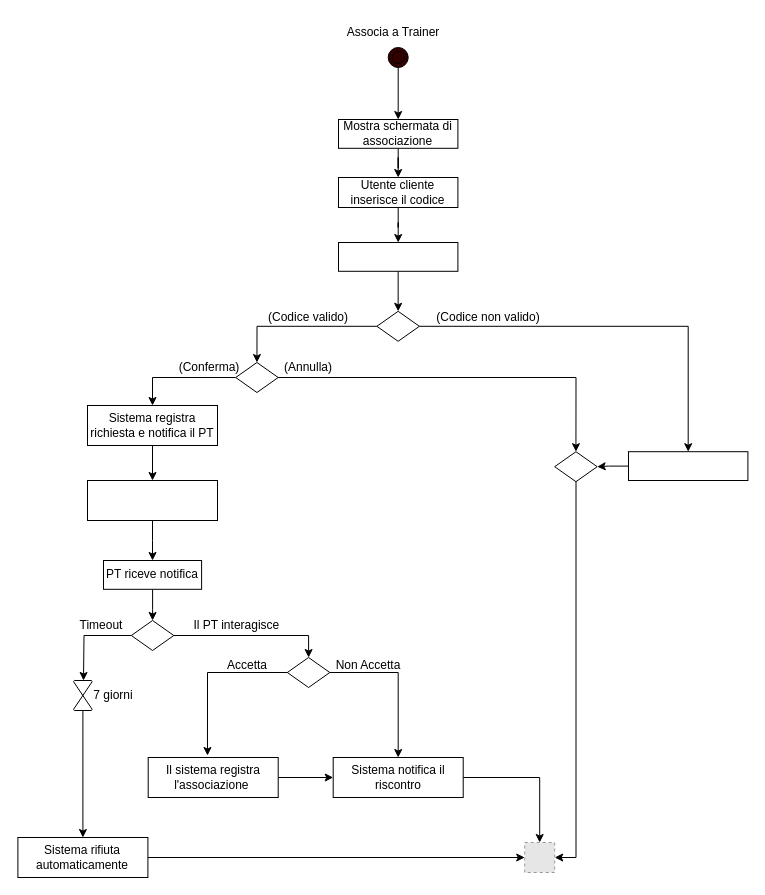
This 765x895 diagram has some shape labels left out. Grey dashed boxes stand in for pictures. The centre of each missing label's shape, as x and y in pixels:
"Il sistema verifica il codice" goes at pixel 398 256.
"Mostra messaggio d'errore" goes at pixel 688 465.
"Mostra messaggio di avvenuta richiesta di associazione" goes at pixel 152 500.
